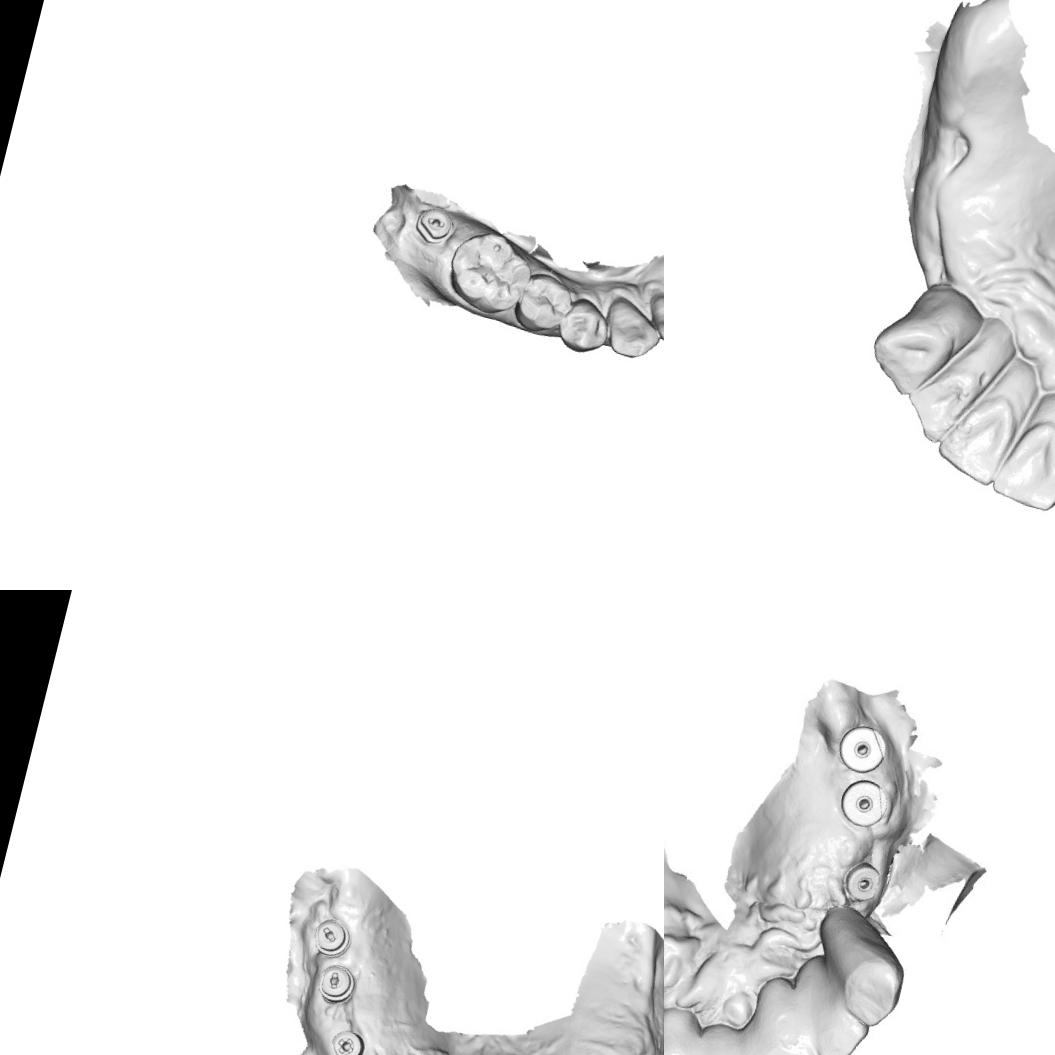canine: (806, 904, 918, 1022), (860, 306, 960, 406), (596, 291, 664, 363), (664, 1001, 712, 1055)
implant: (838, 776, 895, 836), (838, 851, 890, 911), (838, 720, 891, 778)
implant_minus: (411, 201, 459, 248), (313, 960, 360, 1008), (309, 914, 355, 960)
implant_plus: (326, 1025, 369, 1055)
incisor: (782, 951, 882, 1055), (926, 383, 1020, 492), (737, 975, 845, 1055), (899, 358, 982, 454), (984, 410, 1055, 514), (687, 1022, 778, 1055), (641, 286, 664, 349)
molar: (439, 222, 540, 322)
premolar: (508, 266, 579, 340), (552, 292, 617, 358)
